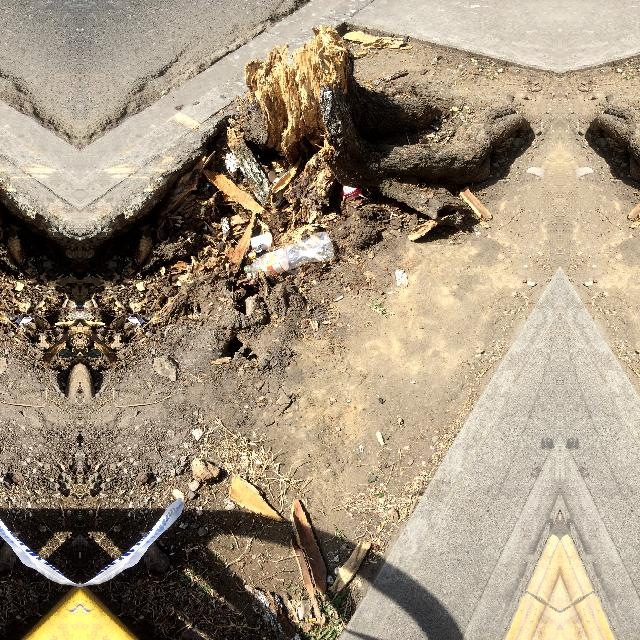Paper: (80, 496, 186, 590), (0, 495, 80, 590), (244, 240, 264, 266), (341, 182, 365, 202), (394, 268, 410, 290)
Plastic: (242, 230, 336, 280), (247, 232, 277, 250), (356, 193, 369, 200)
